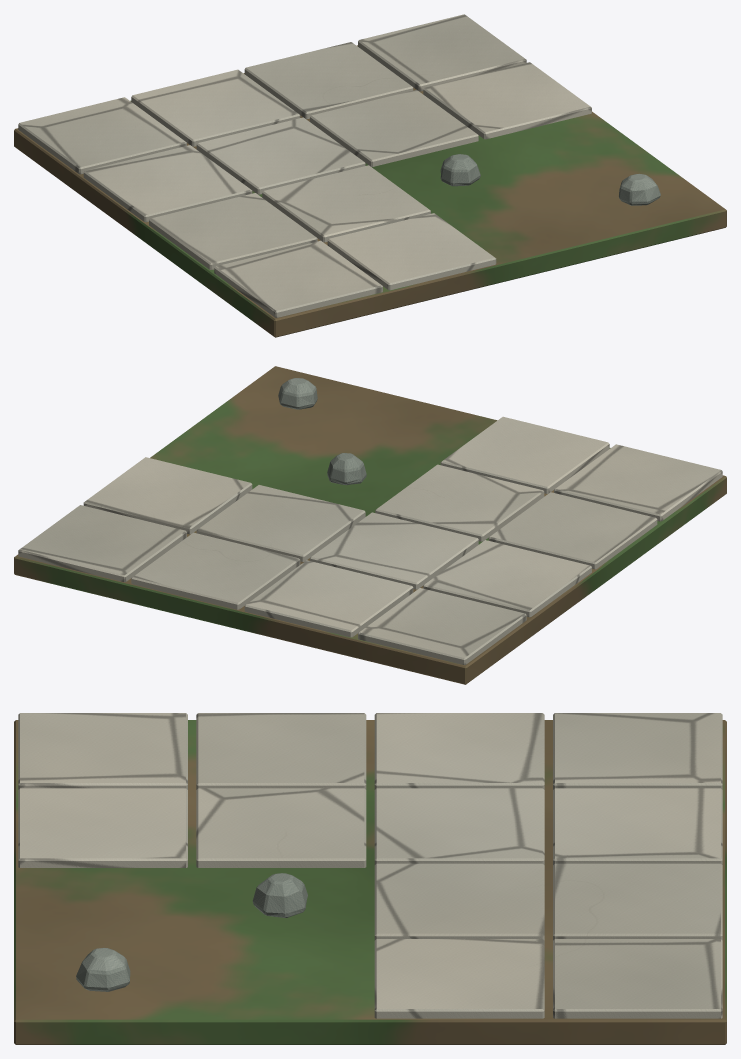
File: t05_transition_corner.fbx
3 renders of one model, top to bottom at view 1: azimuth 30°, elevation 25°; view 2: azimuth 150°, elevation 25°; view 3: azimuth 270°, elevation 25°, orthographic. The views are drawn at different scales.
Parts seen in each view (by area): view 1: t05_transition_corner.004; view 2: t05_transition_corner.004; view 3: t05_transition_corner.004.
Boxes of the visible parts, x1,y1,x2,y2 form: t05_transition_corner.004: [14, 14, 726, 337]; t05_transition_corner.004: [14, 366, 726, 684]; t05_transition_corner.004: [14, 713, 726, 1044].
Size of the model in its own units: 25600 by 25600 by 2200.
